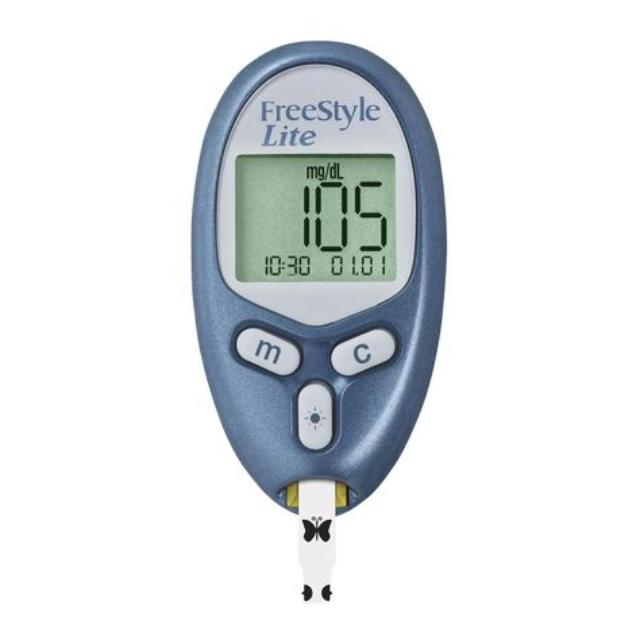Glucose-Meter: (192, 41, 446, 601)
